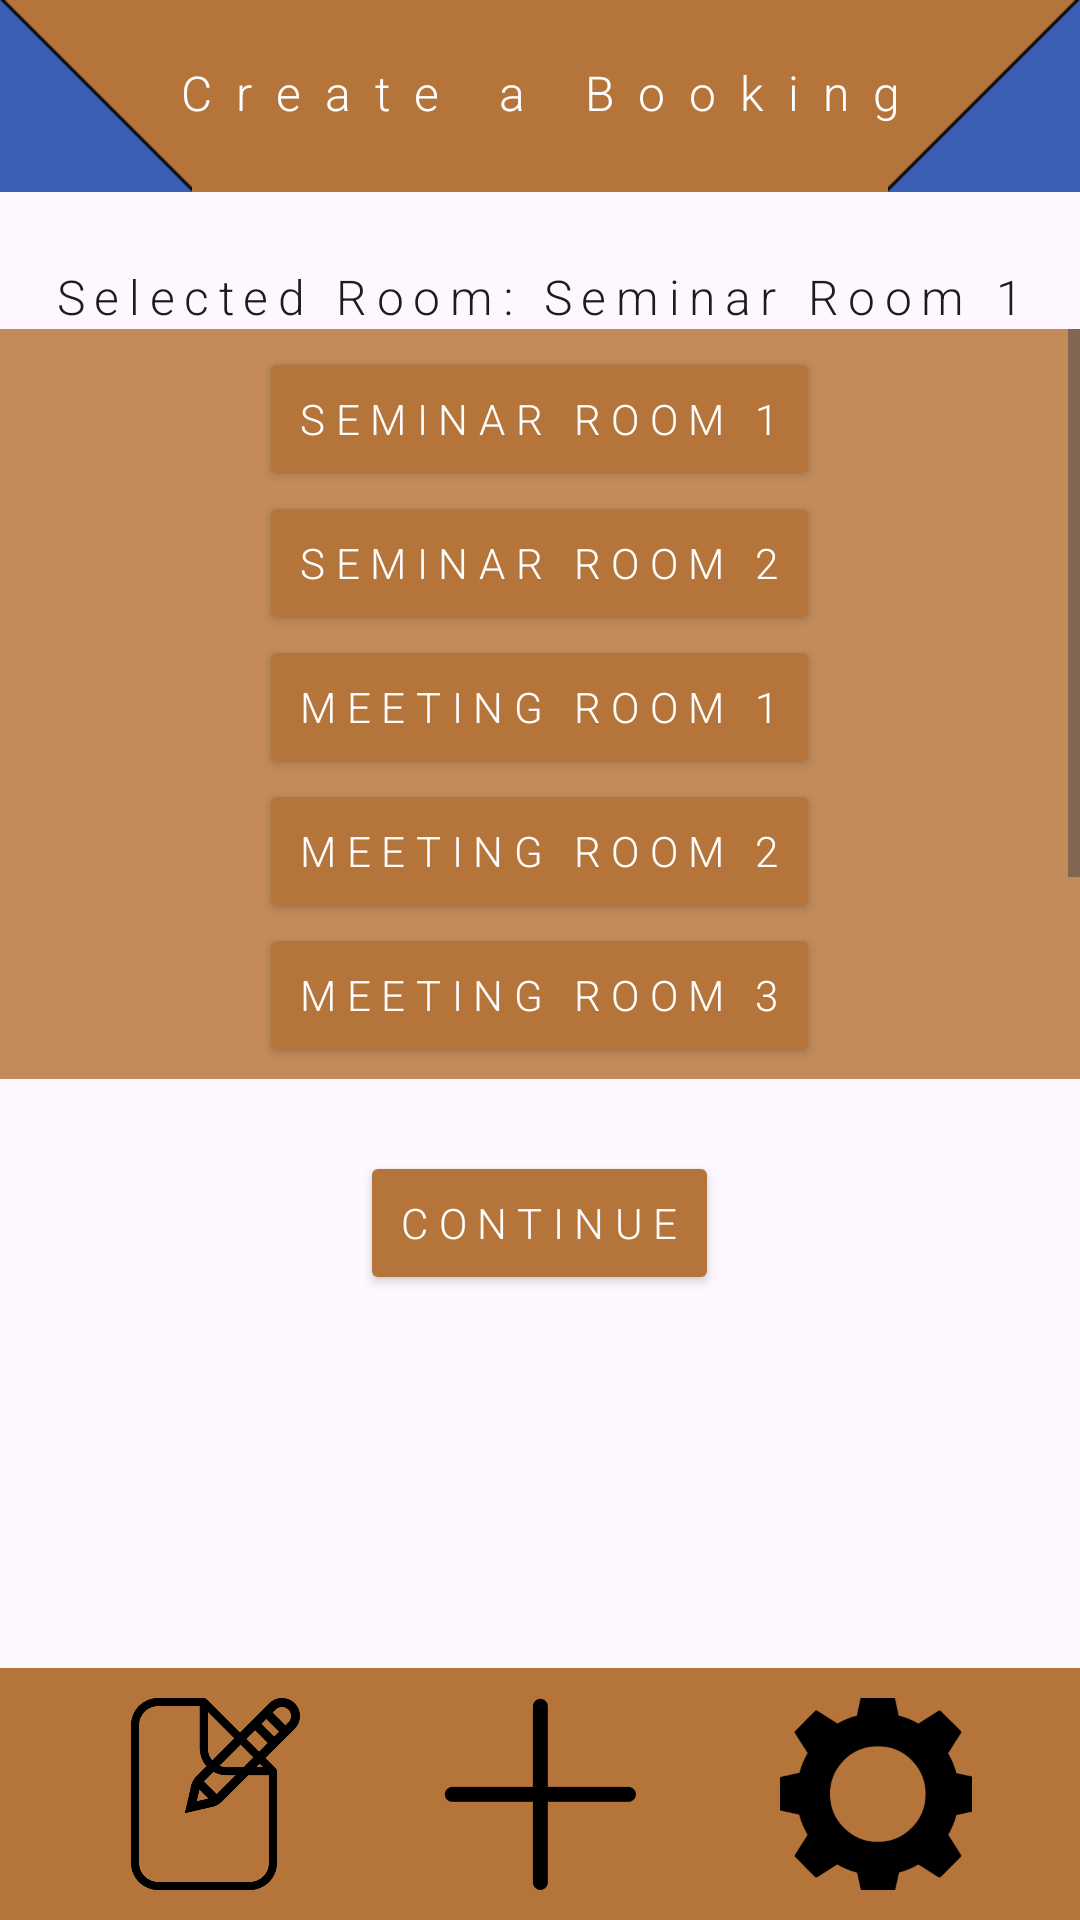

Icon click points for this 1080*1920 phone screenshot, format [x,y]:
create booking: [540,1794]
settings: [876,1794]
